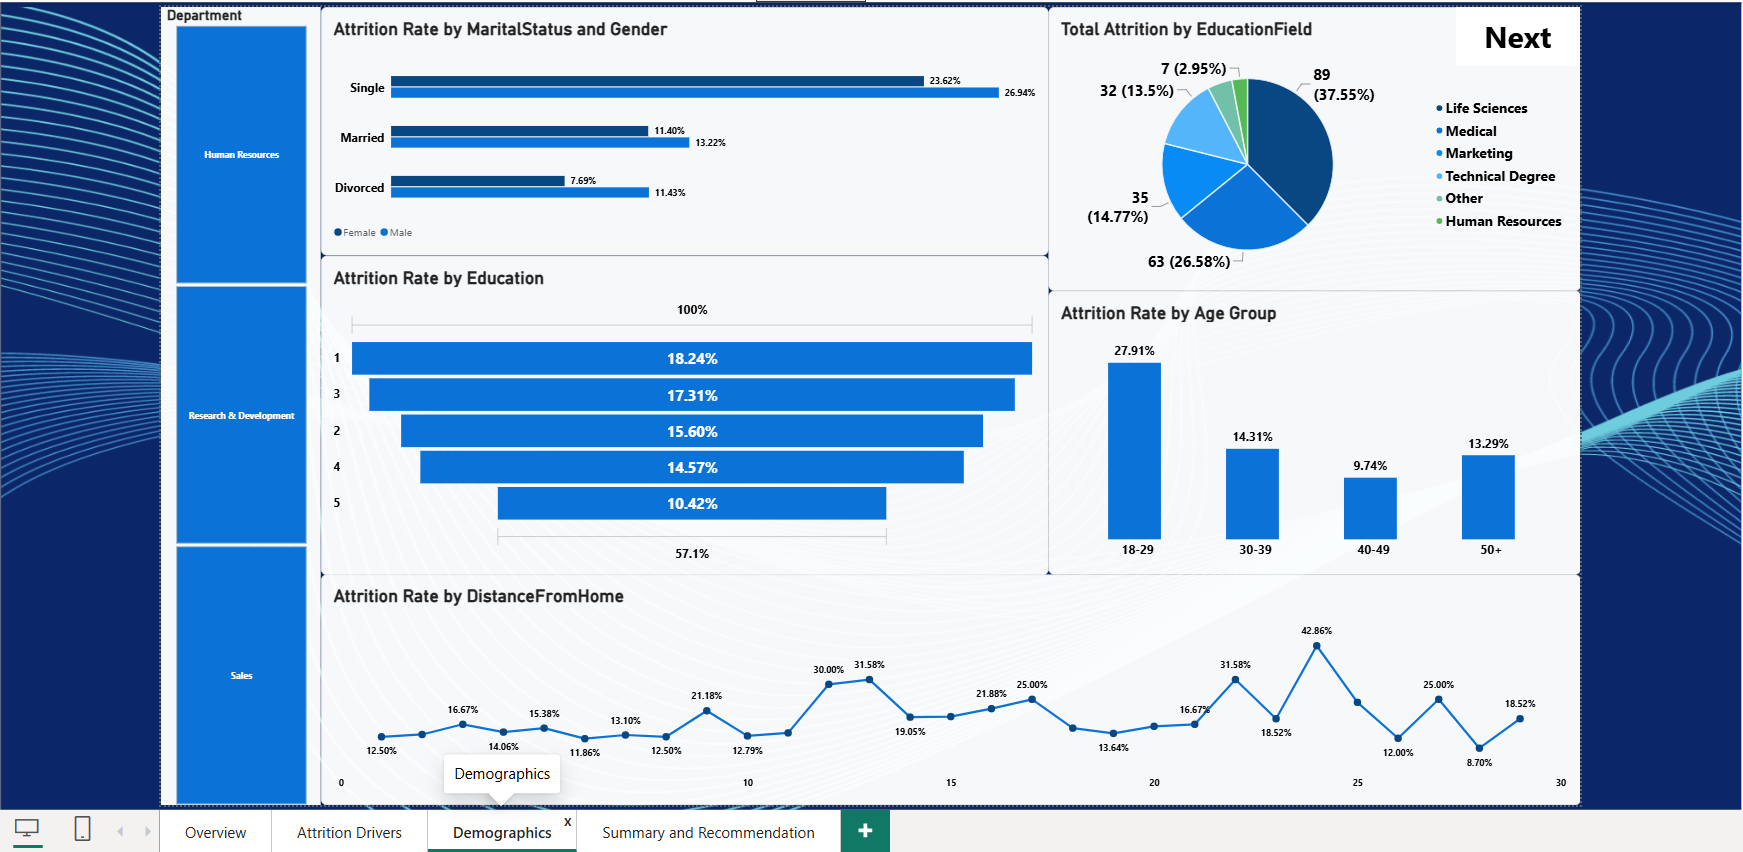

This screenshot's page, from the dashboard's own definition file:
{"tool":"powerbi","page":{"name":"Demographics","canvas":[1920,1080],"ordinal":2},"visuals":[{"type":"clusteredColumnChart","fields":{"Category":["Employees.Age Group"],"Y":["Employees.Attrition Rate"]},"box":[1200,384,720,384],"z":0},{"type":"clusteredBarChart","fields":{"Category":["Employees.MaritalStatus"],"Series":["Employees.Gender"],"Y":["Employees.Attrition Rate"]},"box":[216,0,984,336],"z":1000},{"type":"lineChart","fields":{"Category":["Employees.DistanceFromHome"],"Y":["Employees.Attrition Rate"]},"box":[216,768,1704,312],"z":2000},{"type":"pieChart","fields":{"Category":["Employees.EducationField"],"Y":["Employees.Total Attrition"]},"box":[1200,0,720,384],"z":3000},{"type":"funnel","fields":{"Category":["Employees.Education"],"Y":["Employees.Attrition Rate"]},"box":[216,336,984,432],"z":4000},{"type":"slicer","fields":{"Values":["Employees.Department"]},"box":[0,0,216,1080],"z":5000},{"type":"actionButton","box":[1752,0,168,80],"z":5001}]}

Visuals, with their boxes on the page's 1920x1080 design canvas (x1, y1, x2, y2). These are canvas units, not pixel positions in the 1743x852 screenshot, which may show the page scaled, cropped or inside an application window:
clusteredColumnChart - Employees.Age Group x Employees.Attrition Rate: <region>1200, 384, 1920, 768</region>
clusteredBarChart - Employees.MaritalStatus x Employees.Gender: <region>216, 0, 1200, 336</region>
lineChart - Employees.DistanceFromHome x Employees.Attrition Rate: <region>216, 768, 1920, 1080</region>
pieChart - Employees.EducationField x Employees.Total Attrition: <region>1200, 0, 1920, 384</region>
funnel - Employees.Education x Employees.Attrition Rate: <region>216, 336, 1200, 768</region>
slicer - Employees.Department: <region>0, 0, 216, 1080</region>
actionButton: <region>1752, 0, 1920, 80</region>
